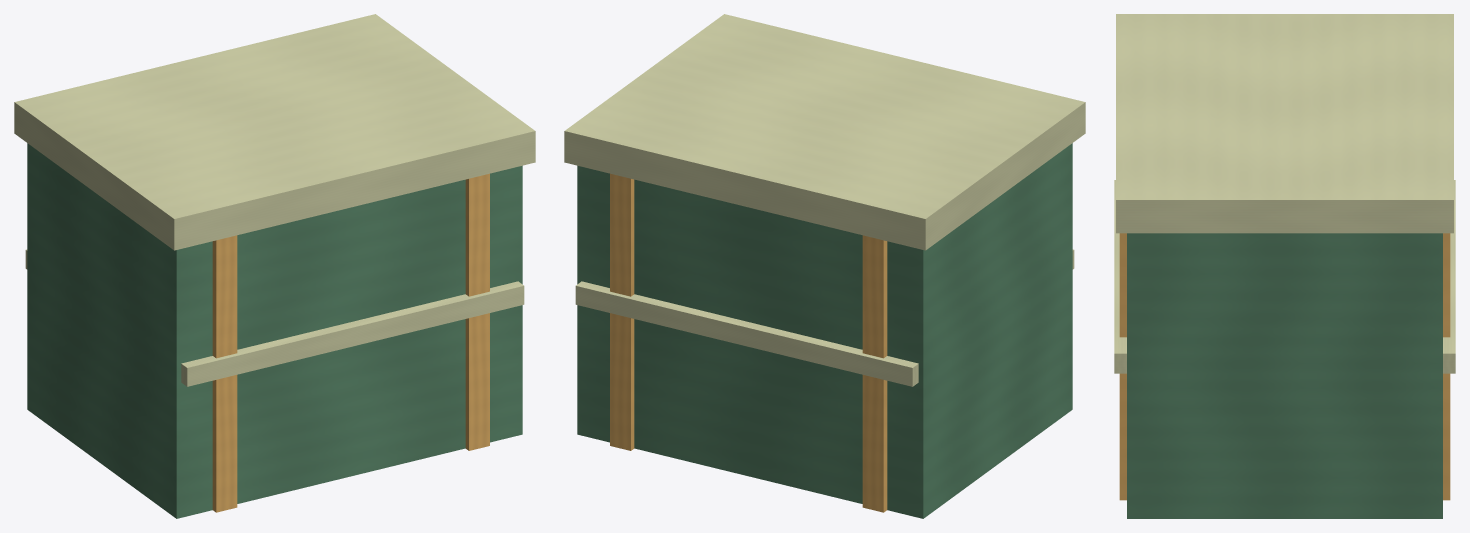
Rendered from atlas100-solarpunk-util02.lod1.glb.
The picture shows the model from 3 angles, left to right: view 1: azimuth 30°, elevation 25°; view 2: azimuth 150°, elevation 25°; view 3: azimuth 270°, elevation 25°; orthographic projection. The views are drawn at different scales.
Visible parts, largest first — view 1: atlas100-solarpunk-util02:part-000, atlas100-solarpunk-util02:part-005, atlas100-solarpunk-util02:part-004, atlas100-solarpunk-util02:part-001, atlas100-solarpunk-util02:part-002; view 2: atlas100-solarpunk-util02:part-000, atlas100-solarpunk-util02:part-005, atlas100-solarpunk-util02:part-003, atlas100-solarpunk-util02:part-001, atlas100-solarpunk-util02:part-002; view 3: atlas100-solarpunk-util02:part-000, atlas100-solarpunk-util02:part-005, atlas100-solarpunk-util02:part-002, atlas100-solarpunk-util02:part-003, atlas100-solarpunk-util02:part-004.
Part boxes in pixels (bbox=[...]): atlas100-solarpunk-util02:part-000: bbox=[27, 143, 522, 518]; atlas100-solarpunk-util02:part-005: bbox=[14, 14, 535, 250]; atlas100-solarpunk-util02:part-004: bbox=[181, 281, 524, 386]; atlas100-solarpunk-util02:part-001: bbox=[212, 235, 237, 512]; atlas100-solarpunk-util02:part-002: bbox=[465, 173, 489, 450]; atlas100-solarpunk-util02:part-000: bbox=[577, 143, 1072, 518]; atlas100-solarpunk-util02:part-005: bbox=[564, 14, 1085, 250]; atlas100-solarpunk-util02:part-003: bbox=[575, 281, 918, 386]; atlas100-solarpunk-util02:part-001: bbox=[862, 235, 887, 512]; atlas100-solarpunk-util02:part-002: bbox=[610, 173, 634, 450]; atlas100-solarpunk-util02:part-000: bbox=[1127, 233, 1442, 518]; atlas100-solarpunk-util02:part-005: bbox=[1116, 14, 1453, 233]; atlas100-solarpunk-util02:part-002: bbox=[1119, 233, 1450, 500]; atlas100-solarpunk-util02:part-003: bbox=[1443, 180, 1455, 373]; atlas100-solarpunk-util02:part-004: bbox=[1114, 180, 1126, 373].
Size of the model in its own units: 1.23 by 0.9923 by 0.9514.
3 materials, 3 textured.
